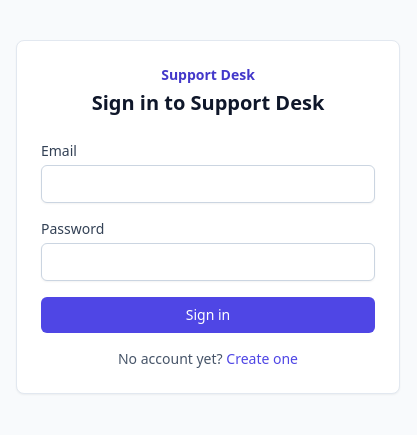
LoginPage › requires email and password
The width and height of the screenshot is (417, 435).
Click the button "Sign in" at (208, 315), box x1=41 y1=297 x2=375 y2=333
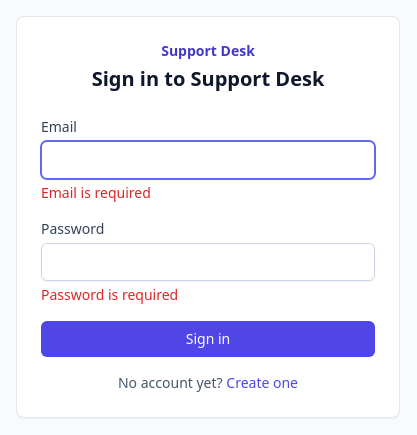
expect the text "Email is required" is shown: met, box x1=41 y1=183 x2=151 y2=202
expect the text "Password is required" is shown: met, box x1=41 y1=285 x2=178 y2=304
